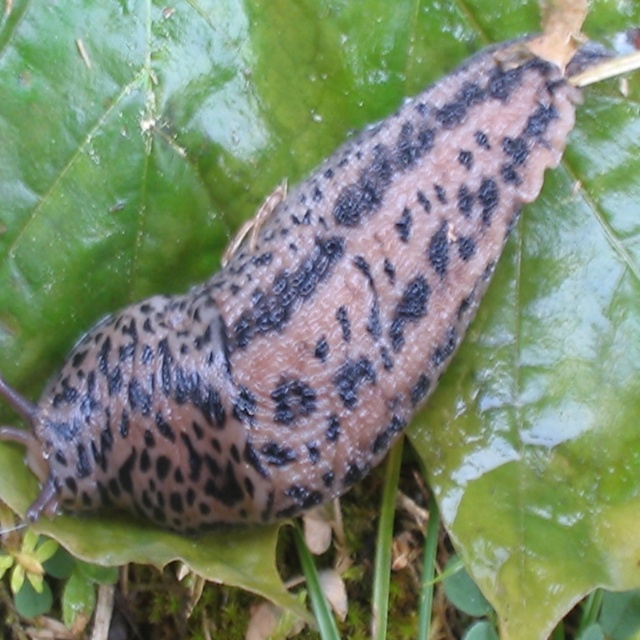Snail: (0, 0, 640, 526)
